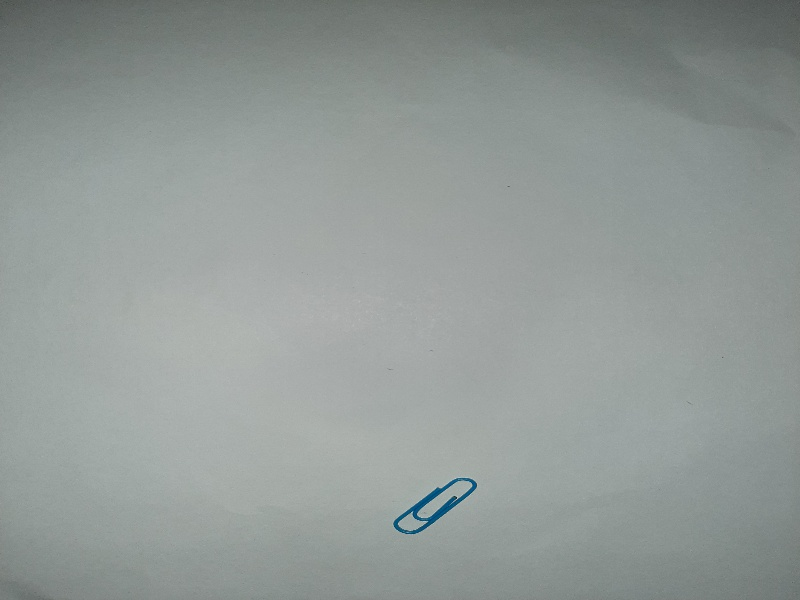Small Jumpclip: (388, 470, 481, 541)
